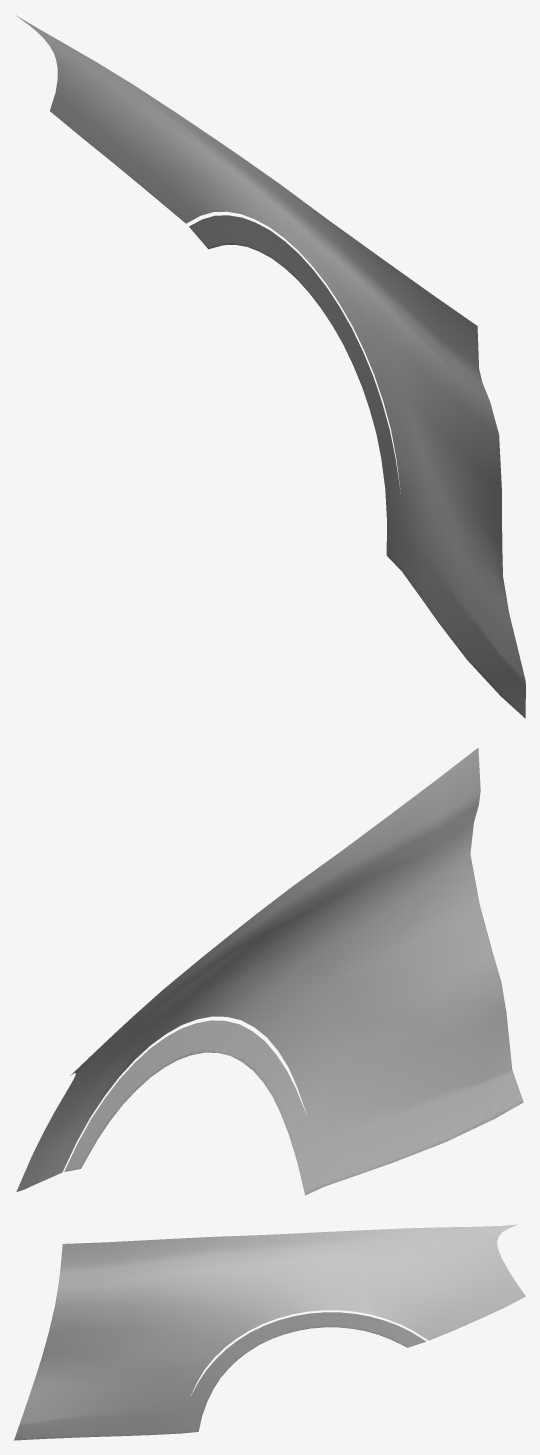
File: M2drivbackfender.glb
3 views of the same model, one above another, from view 1: azimuth 30°, elevation 25°; view 2: azimuth 150°, elevation 25°; view 3: azimuth 270°, elevation 25° (orthographic). The views are drawn at different scales.
Visible parts, largest first — view 1: Object_23.005; view 2: Object_23.005; view 3: Object_23.005.
Part boxes in pixels (x1=…): Object_23.005: x1=16, y1=15, x2=525, y2=718; Object_23.005: x1=16, y1=748, x2=523, y2=1195; Object_23.005: x1=14, y1=1224, x2=525, y2=1440.
Bounding box in the file's own units: 0.1582 × 0.6184 × 1.4.
Materials: 1 (1 with a texture image).
